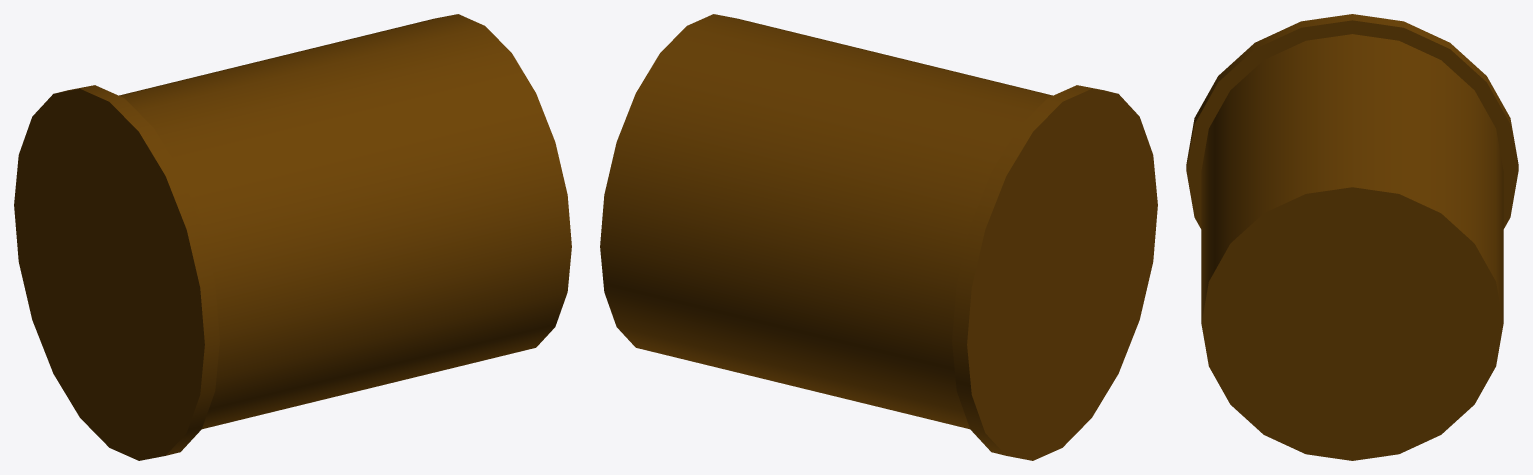
Rendered from AIR_D400_L50.FBX.
The picture shows the model from 3 angles, left to right: view 1: azimuth 30°, elevation 25°; view 2: azimuth 150°, elevation 25°; view 3: azimuth 270°, elevation 25°; orthographic projection. The views are drawn at different scales.
Visible parts, largest first — view 1: AIR_D400_L50; view 2: AIR_D400_L50; view 3: AIR_D400_L50.
Boxes of the visible parts, bbox=[...] form: AIR_D400_L50: bbox=[14, 14, 571, 460]; AIR_D400_L50: bbox=[600, 14, 1157, 460]; AIR_D400_L50: bbox=[1186, 14, 1518, 460].
Size of the model in its own units: 50 by 44 by 44.
